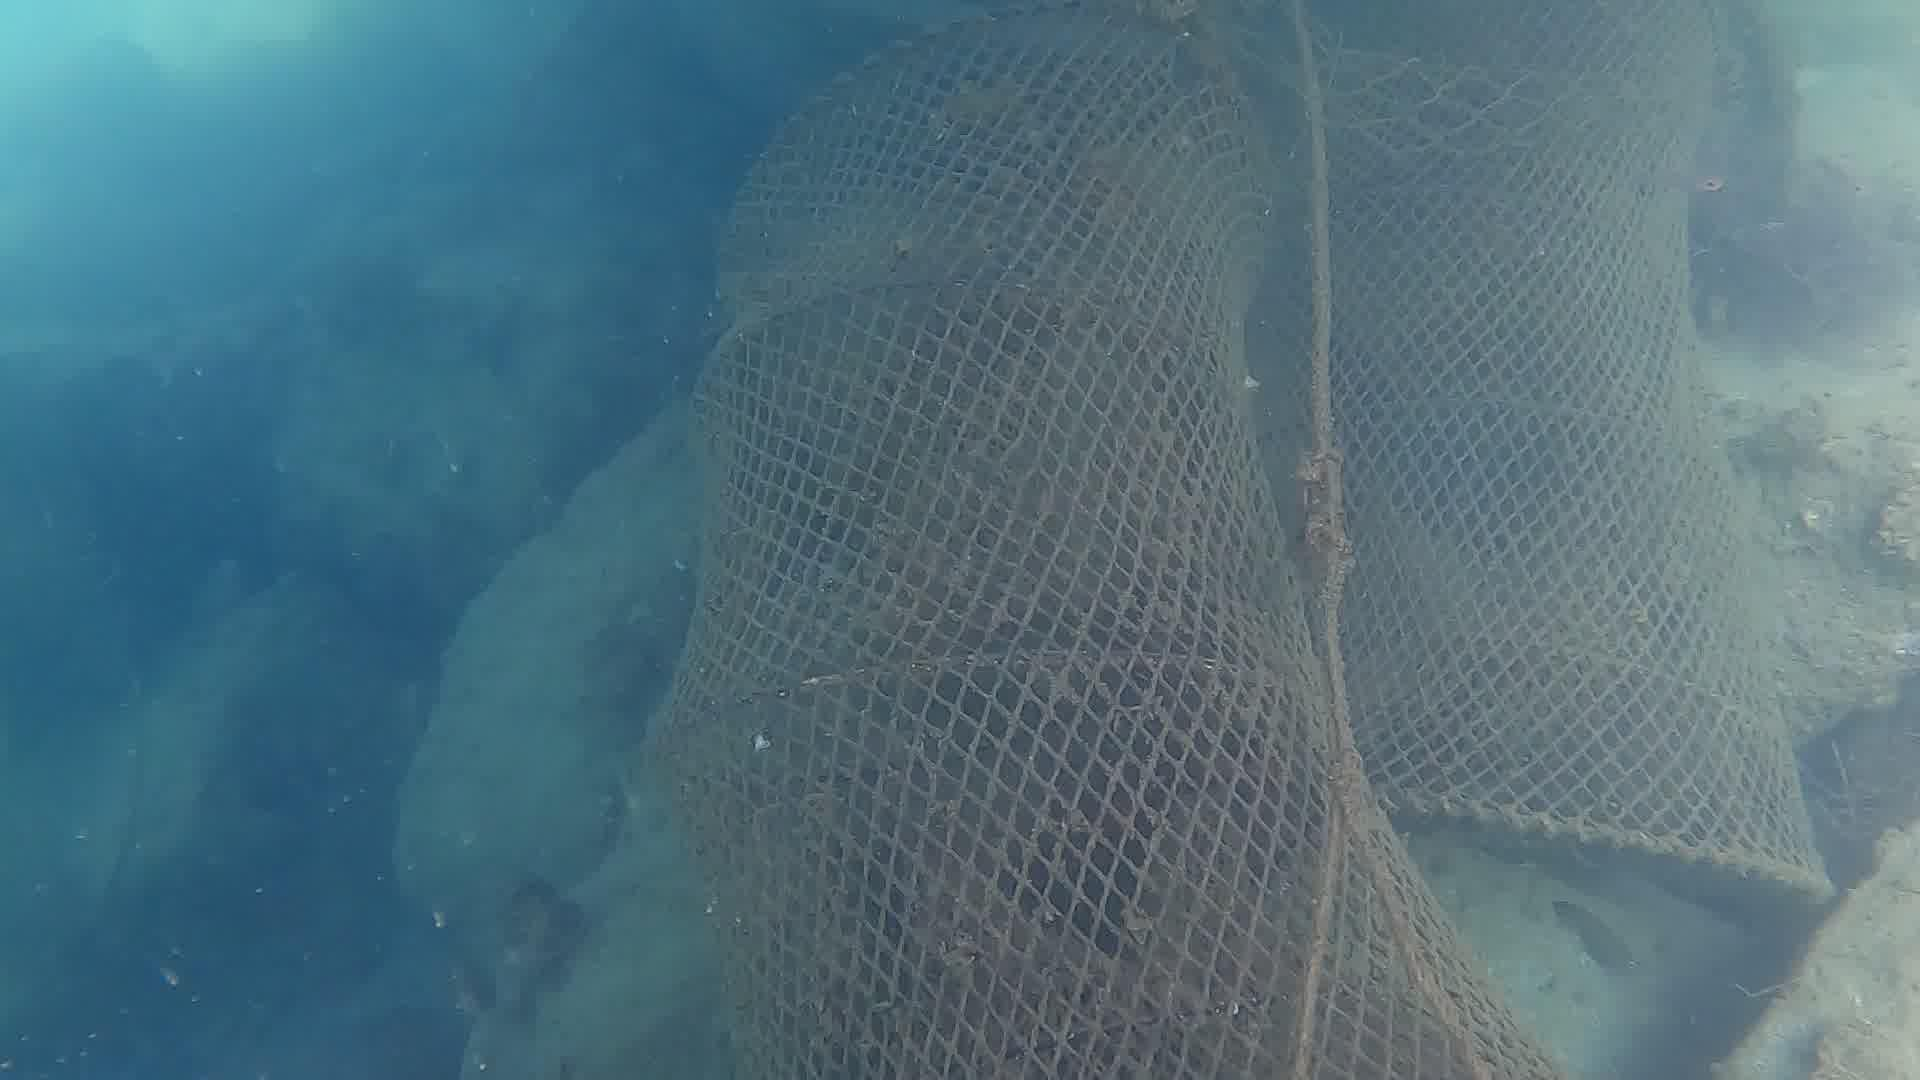spring fish trap: (634, 0, 1577, 1080), (1284, 0, 1844, 914)
